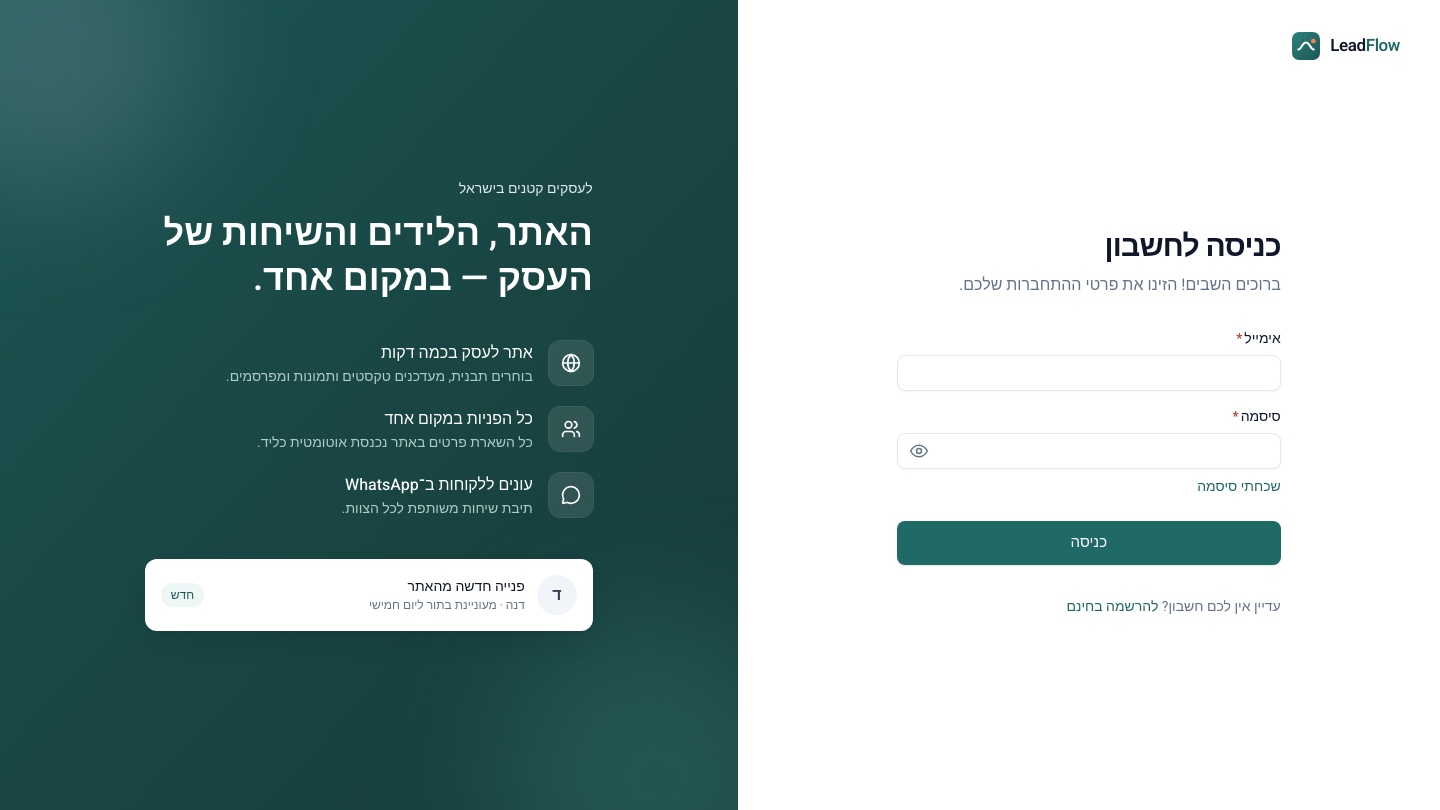
Test: LoginPage › shows a 401 as a form-level alert, not a field error
Expected: the button "כניסה" is shown, [897,520,1281,564]
Type "dana@example.com" into the field labelled "אימייל*" at (1089, 372), box [897,354,1281,390]
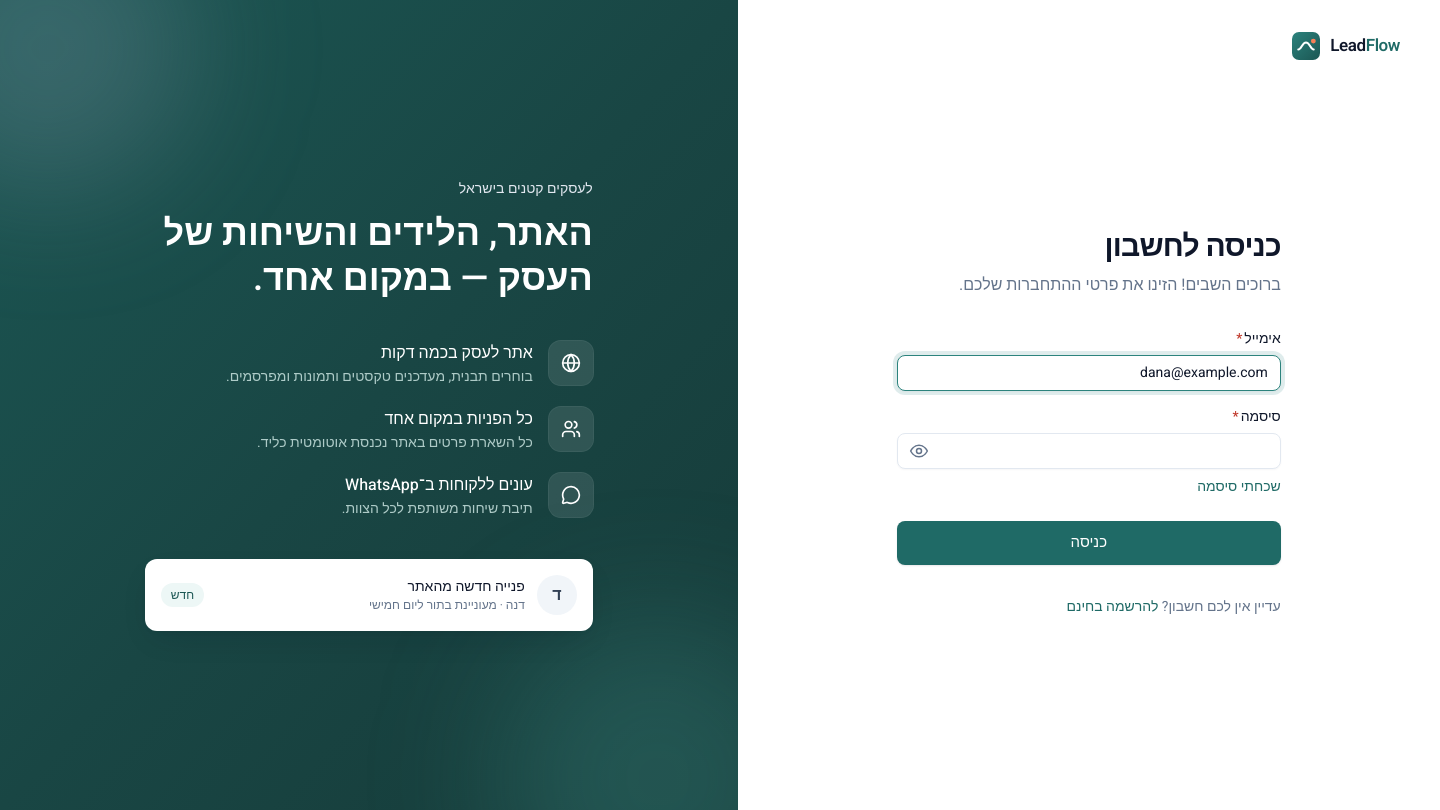
Type "wrong-password" into the password field labelled "סיסמה*" at (1089, 450), box [897,432,1281,468]
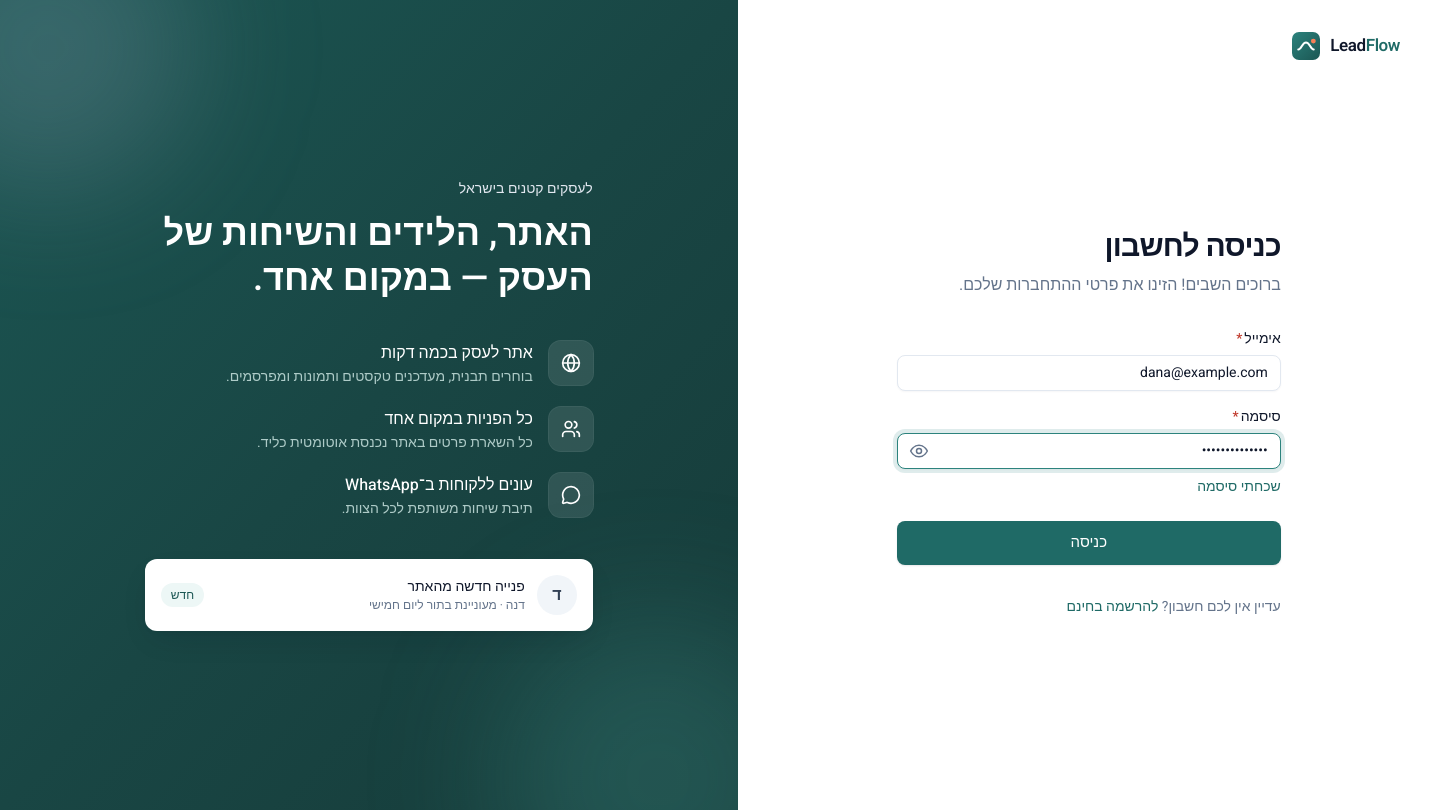
Click the button "כניסה" at (1089, 542), box [897,520,1281,564]
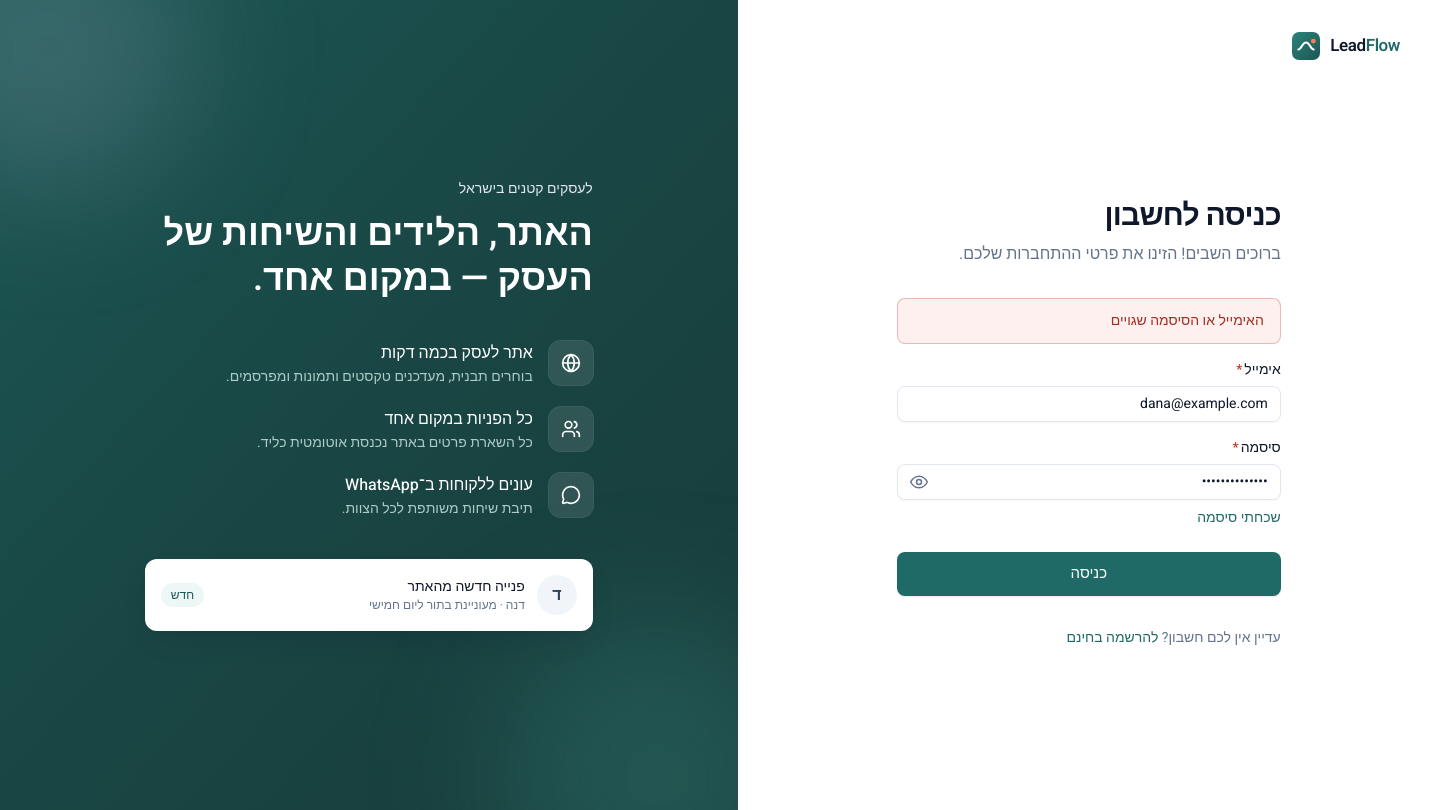
Expected: the message reads "האימייל או הסיסמה שגויים", [1111,310,1264,330]
